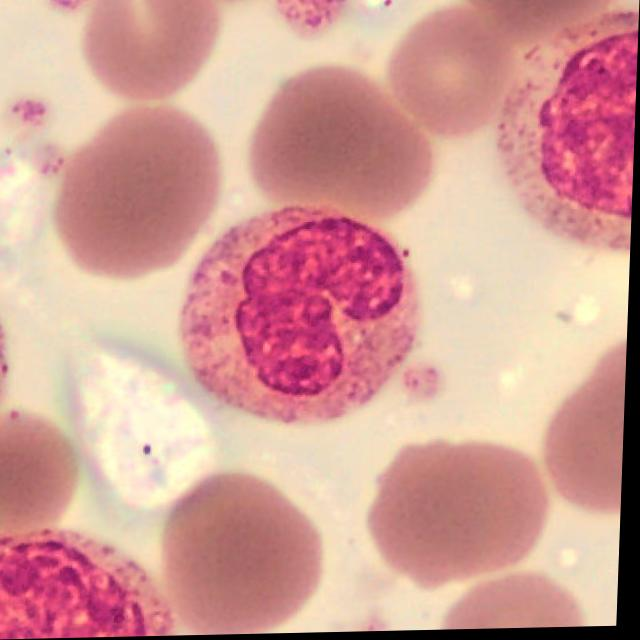Bastonete: (181, 206, 423, 425)
